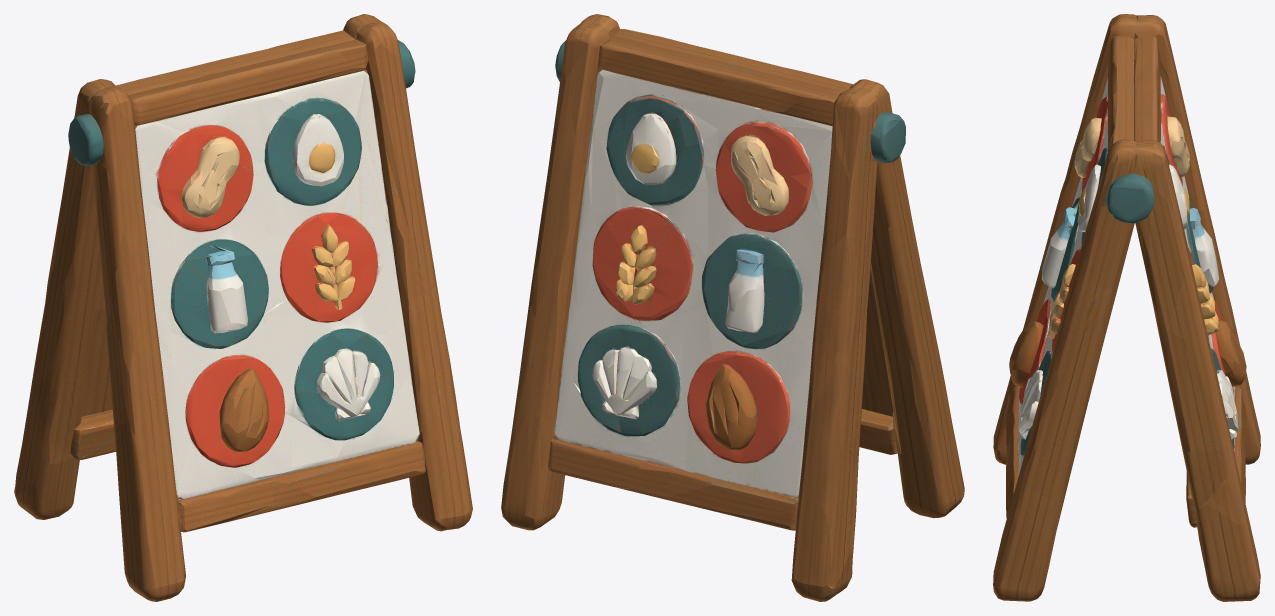
The model's file is menuBoard.glb.
3 views of the same model, side by side, from view 1: azimuth 30°, elevation 25°; view 2: azimuth 150°, elevation 25°; view 3: azimuth 270°, elevation 25° (orthographic). The views are drawn at different scales.
Parts seen in each view (by area): view 1: Mesh_0; view 2: Mesh_0; view 3: Mesh_0.
Part boxes in pixels (<box>): Mesh_0: <box>14,14,472,601</box>; Mesh_0: <box>501,14,964,601</box>; Mesh_0: <box>993,14,1260,601</box>.
Bounding box in the file's own units: 0.8189 × 1.1 × 0.5929.
1 material, 1 textured.
